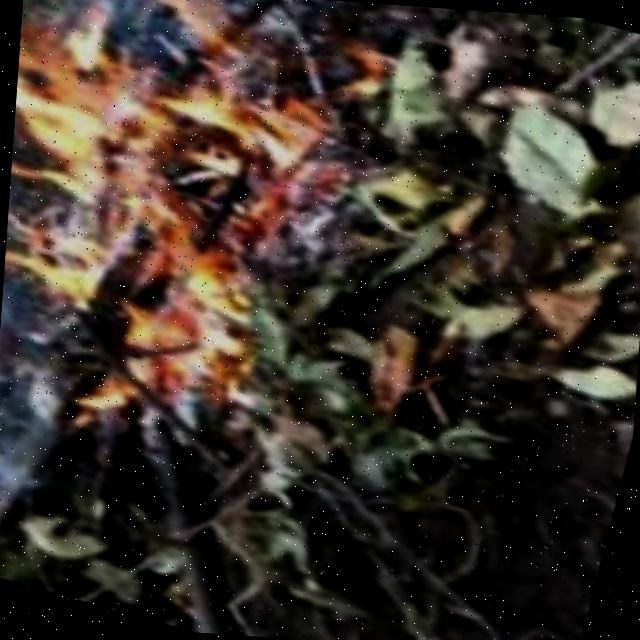fire: (0, 0, 341, 444)
